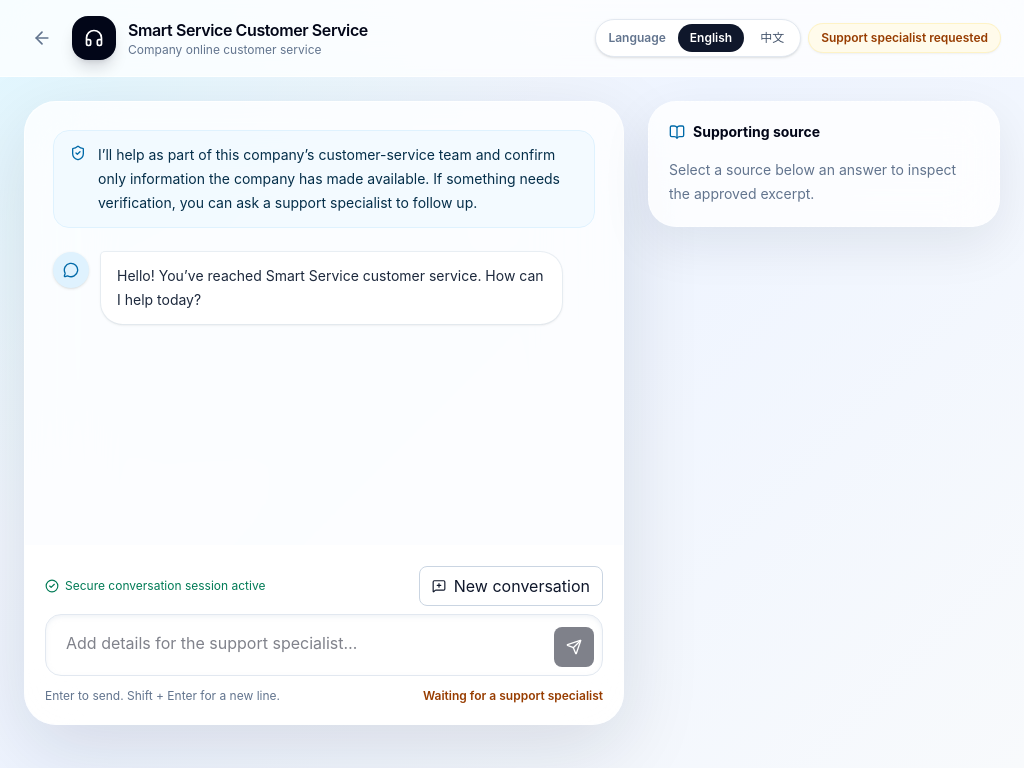
Scenario: PublicChat › keeps customer messaging open while waiting for an unclaimed human handoff
The width and height of the screenshot is (1024, 768).
Expected: the text "Waiting for a support specialist" is shown, [423,688,603,704]
Step 1. Type "I can share my preferred model." into the text box named "Ask Smart Service customer service" → x=300, y=645, box [54,623,546,667]
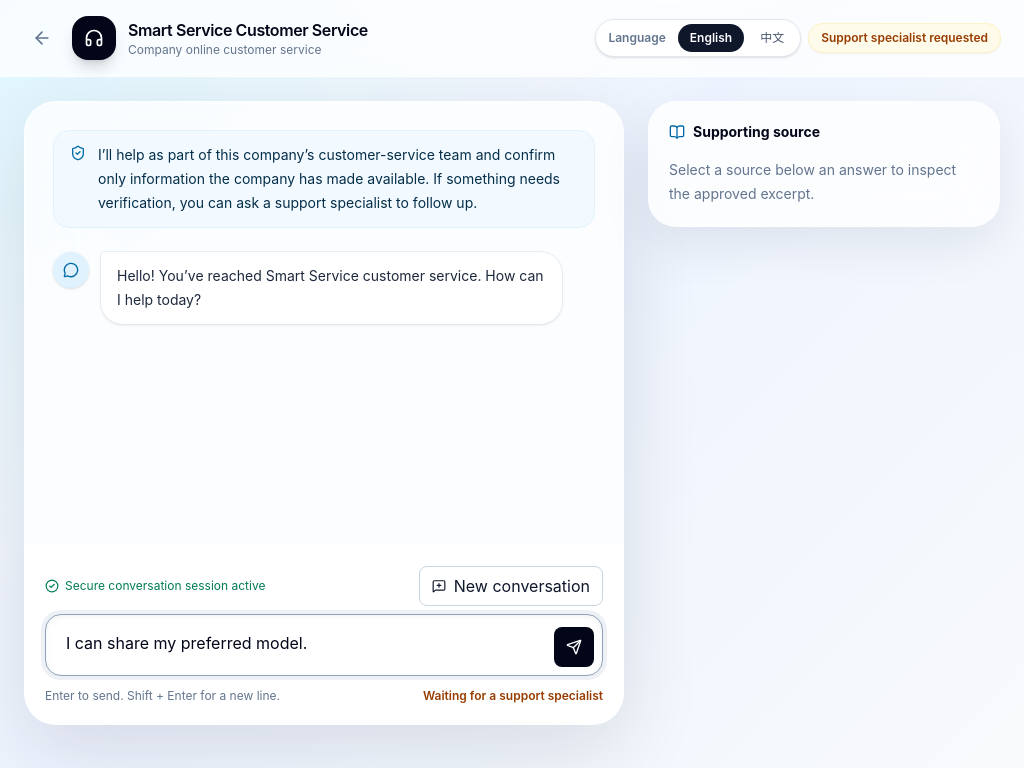
Step 2. Click the button named "Send message" → x=574, y=647, box [554,627,594,667]
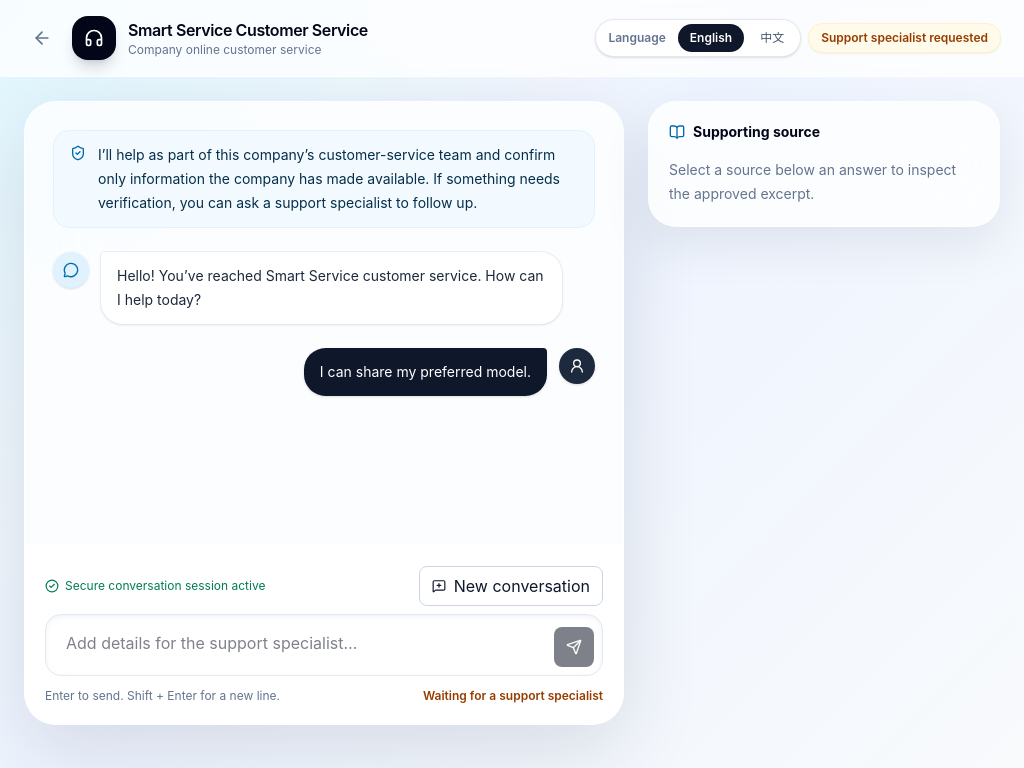
Expected: the text "I can share my preferred model." is shown, [304,348,547,396]
